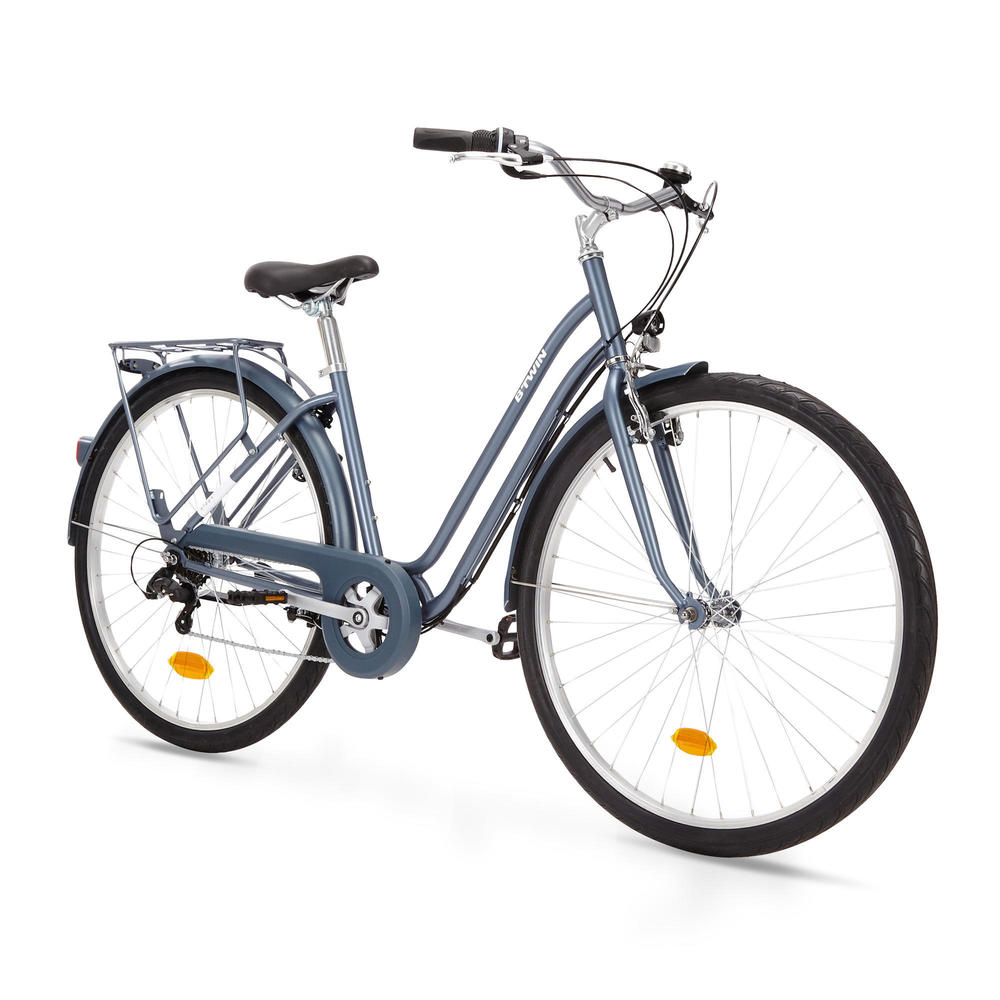UrbanBike: (73, 108, 948, 843)
